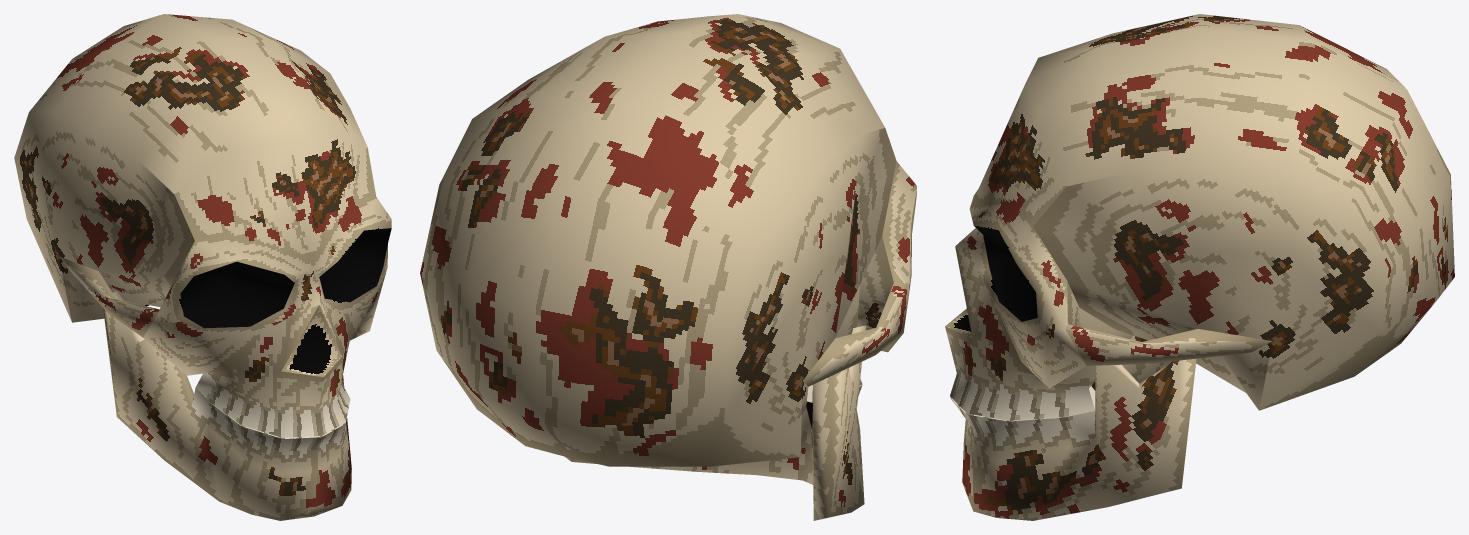
File: cool skull.glb
3 views of the same model, side by side, from view 1: azimuth 30°, elevation 25°; view 2: azimuth 150°, elevation 25°; view 3: azimuth 270°, elevation 25° (orthographic). The views are drawn at different scales.
Parts seen in each view (by area): view 1: Cube.004, Cube.001; view 2: Cube.004, Cube.001; view 3: Cube.004, Cube.001.
Boxes of the visible parts, x1,y1,x2,y2 form: Cube.004: (14,14,391,437); Cube.001: (103,291,351,520); Cube.004: (420,14,916,466); Cube.001: (564,325,866,520); Cube.004: (945,14,1454,420); Cube.001: (950,335,1196,520).
Size of the model in its own units: 1.36 by 1.99 by 1.95.
1 material, 1 textured.
